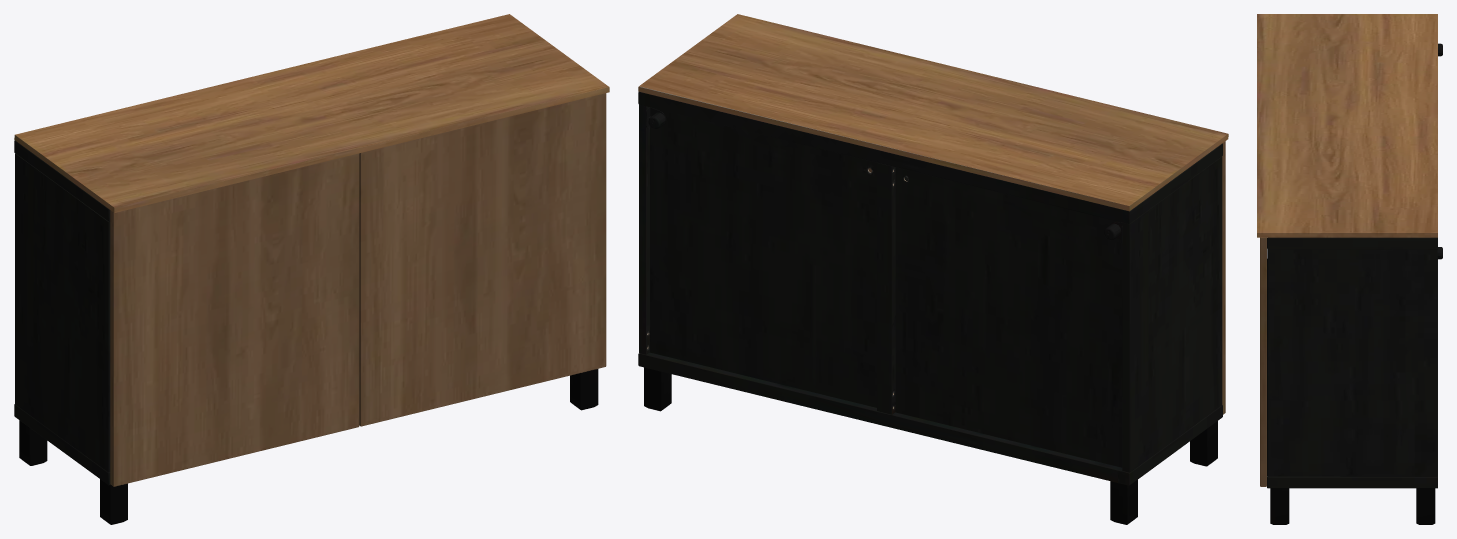
3 views of the same model, side by side, from view 1: azimuth 30°, elevation 25°; view 2: azimuth 150°, elevation 25°; view 3: azimuth 270°, elevation 25° (orthographic). The views are drawn at different scales.
Parts seen in each view (by area): view 1: 29612349_storage_combination_with_doors.011; view 2: 29612349_storage_combination_with_doors.011; view 3: 29612349_storage_combination_with_doors.011.
Boxes of the visible parts, x1=… form: 29612349_storage_combination_with_doors.011: x1=14, y1=14, x2=609, y2=524; 29612349_storage_combination_with_doors.011: x1=638, y1=14, x2=1228, y2=524; 29612349_storage_combination_with_doors.011: x1=1257, y1=14, x2=1442, y2=524.
Size of the model in its own units: 1.2 by 0.7523 by 0.43.
1 material, 1 textured.
